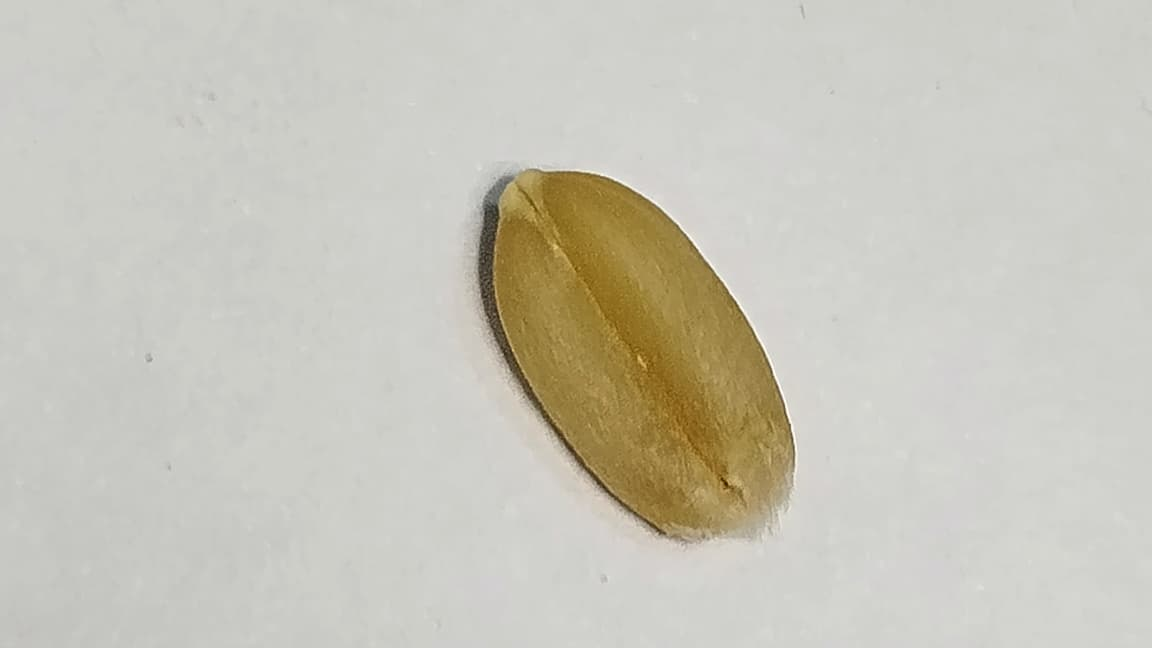healthy: (491, 169, 794, 540)
